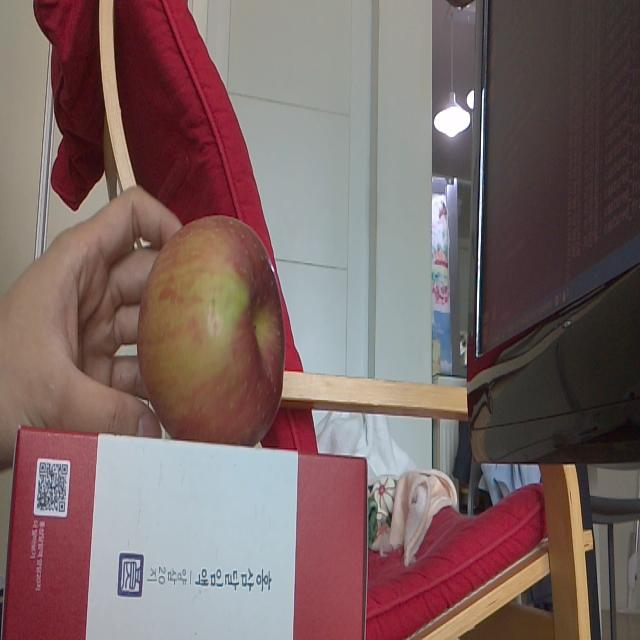apple: (137, 213, 289, 457)
